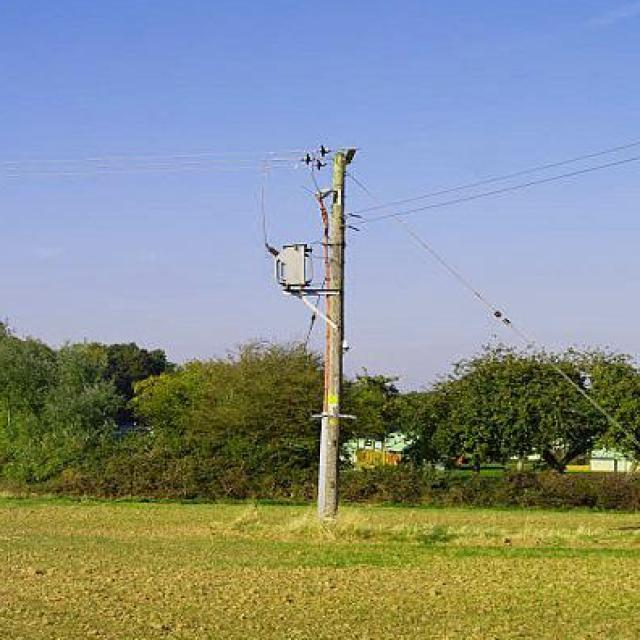non-critical vegetation: (272, 143, 389, 518)
